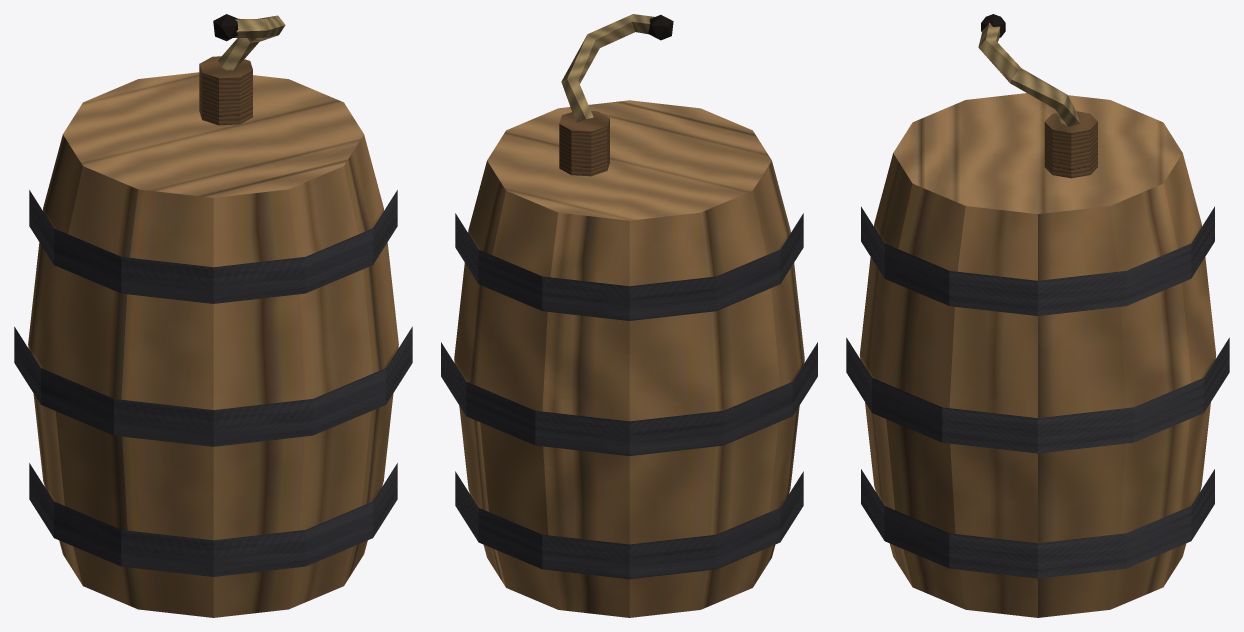
File: prop_kruitvat.glb
The picture shows the model from 3 angles, left to right: view 1: azimuth 30°, elevation 25°; view 2: azimuth 150°, elevation 25°; view 3: azimuth 270°, elevation 25°; orthographic projection. The views are drawn at different scales.
Visible parts, largest first — view 1: prop_kruitvat; view 2: prop_kruitvat; view 3: prop_kruitvat.
Boxes of the visible parts, x1=… form: prop_kruitvat: x1=14, y1=14, x2=412, y2=617; prop_kruitvat: x1=441, y1=14, x2=817, y2=617; prop_kruitvat: x1=846, y1=14, x2=1229, y2=617.
Bounding box in the file's own units: 0.344 × 0.533 × 0.344.
1 material, 1 textured.
